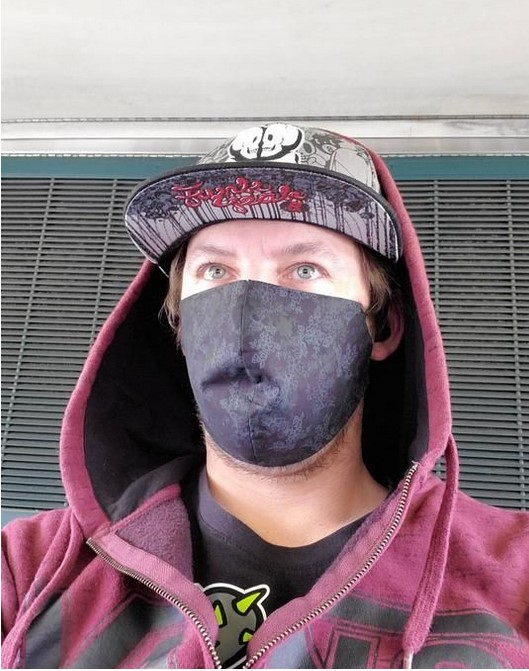face_with_mask: (64, 126, 449, 464)
